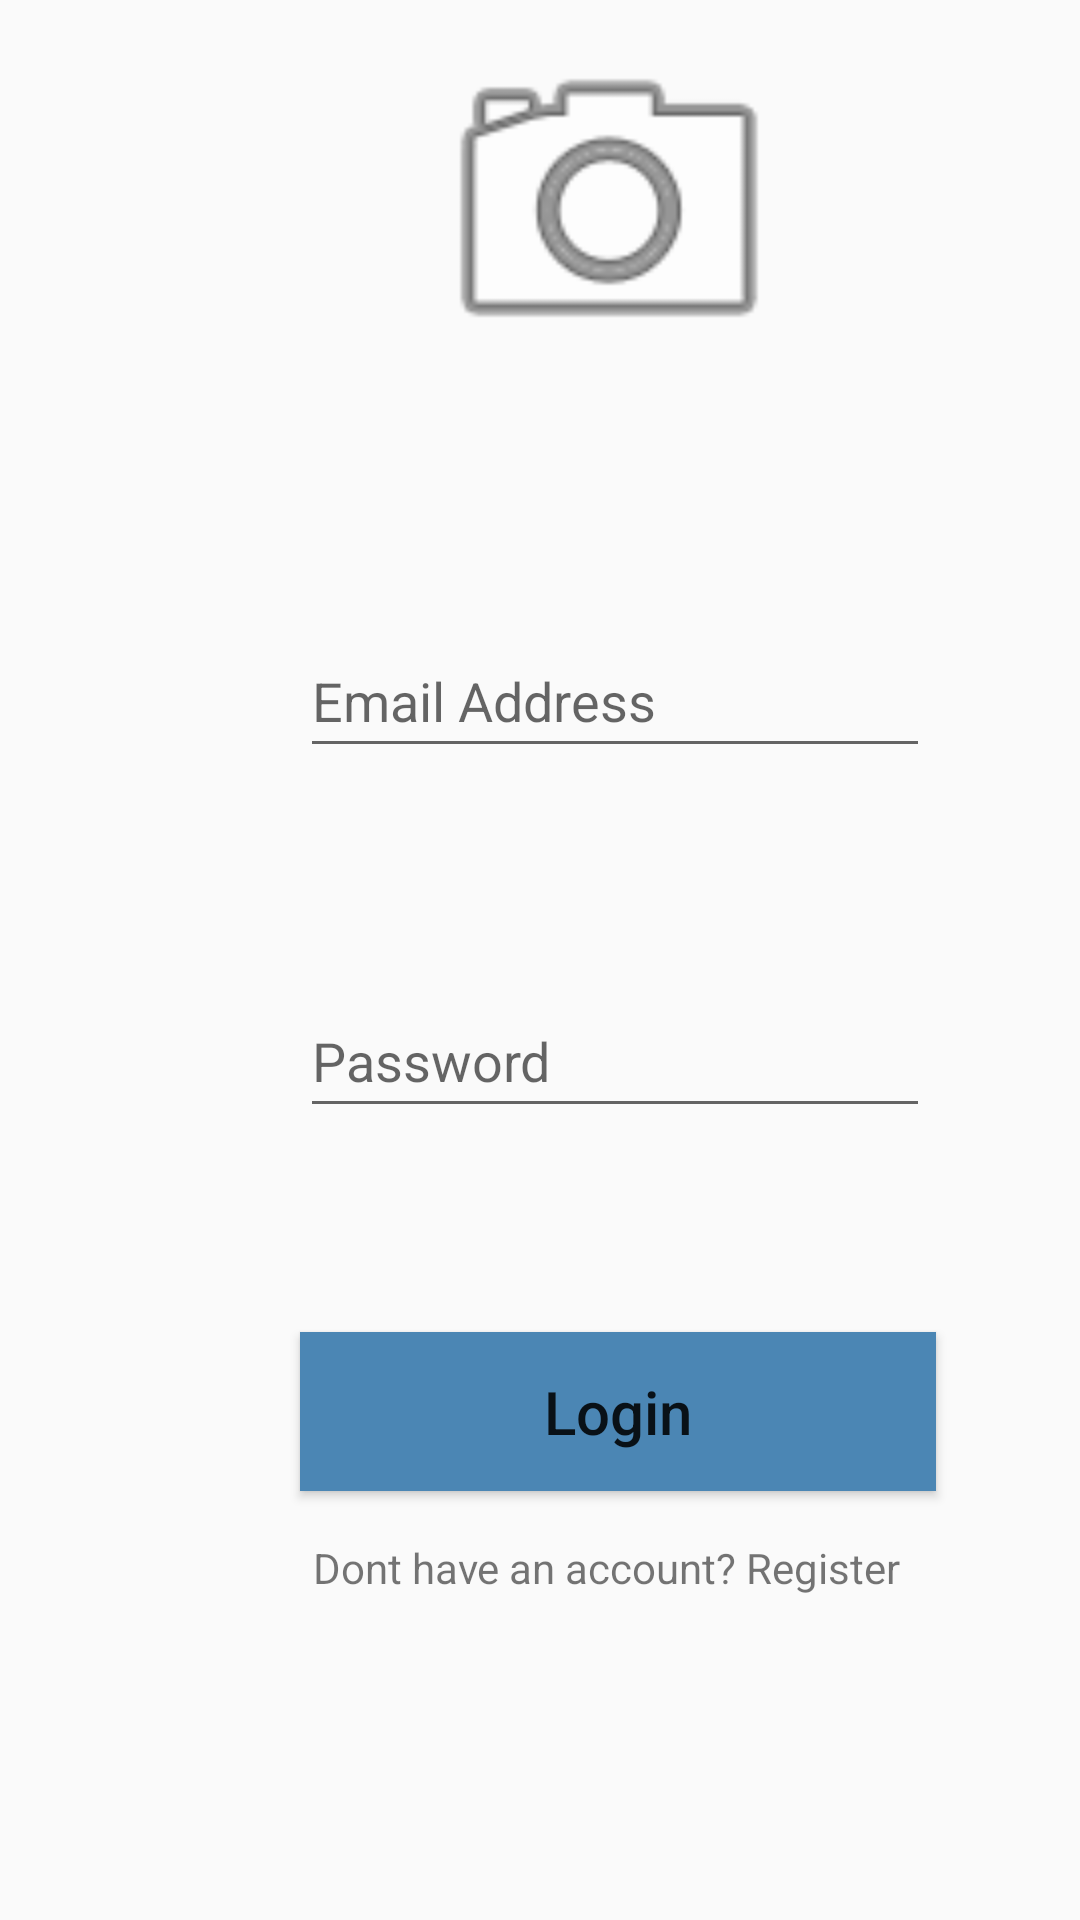

Icon bounding boxes for this 1080*1920 phone screenshot, format (x1=x1, y1=y1, x2=x2, y2=y2):
camera: (x1=460, y1=80, x2=758, y2=316)
